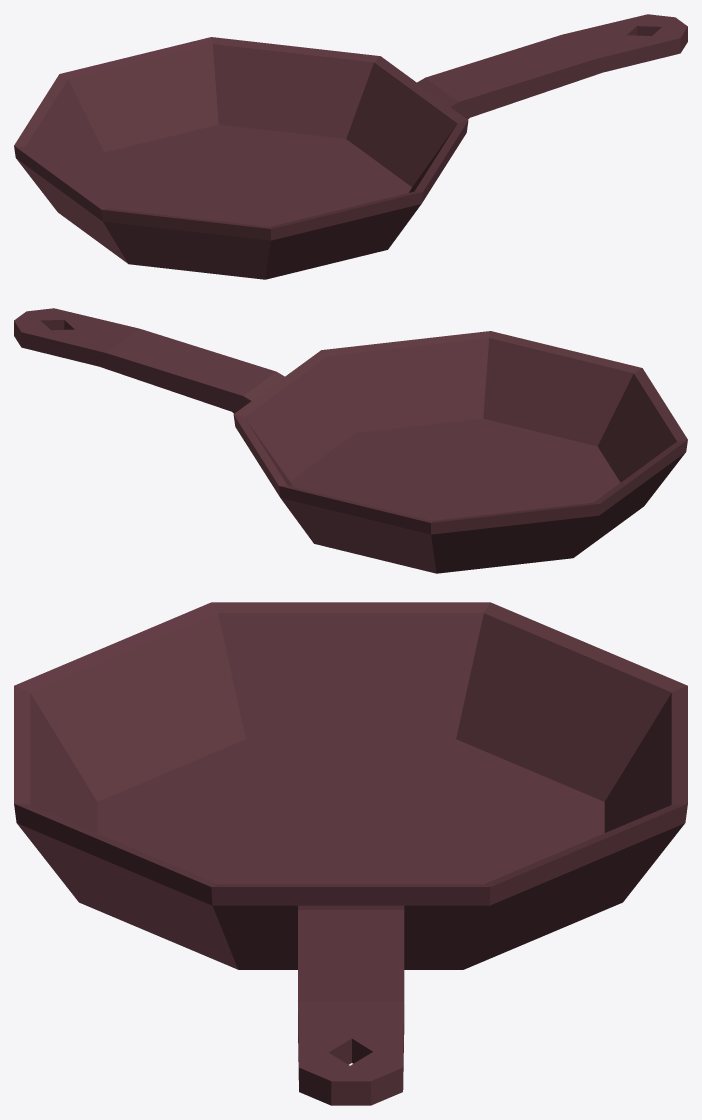
Rendered from dishes-pan.glb.
The picture shows the model from 3 angles, top to bottom: view 1: azimuth 30°, elevation 25°; view 2: azimuth 150°, elevation 25°; view 3: azimuth 270°, elevation 25°; orthographic projection. The views are drawn at different scales.
Parts seen in each view (by area): view 1: pan; view 2: pan; view 3: pan.
Part boxes in pixels (bbox=[...]): pan: bbox=[14, 14, 687, 279]; pan: bbox=[14, 308, 687, 573]; pan: bbox=[14, 602, 687, 1105].
Bounding box in the file's own units: 0.3772 × 0.0422 × 0.2217.
